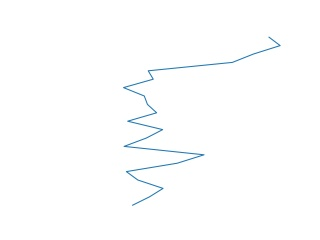crevasseRiverChannelBar: (118, 33, 288, 210)
